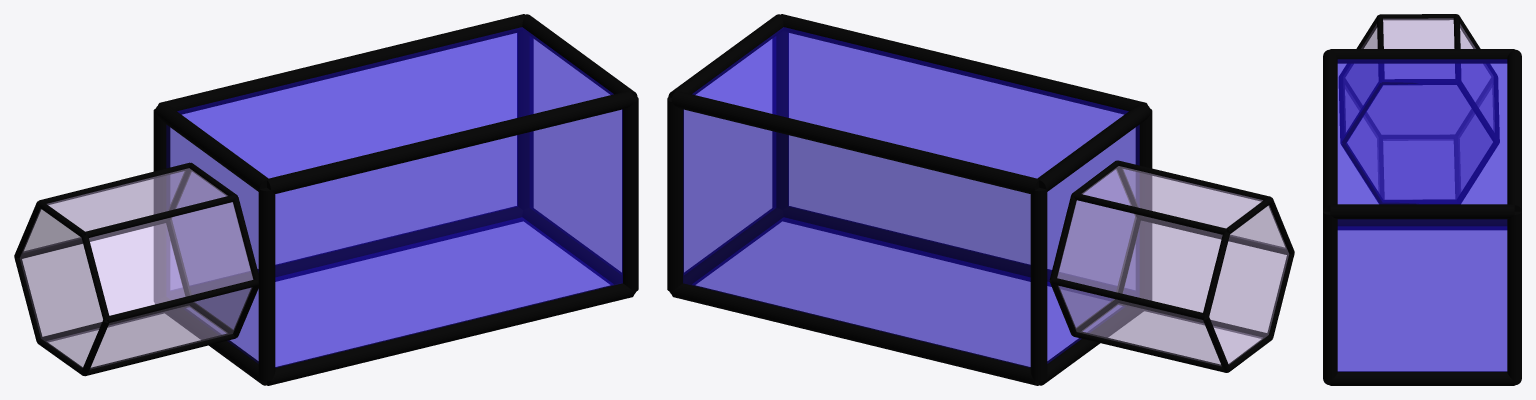
The model's file is hexagonal prism on rectangular prism.fbx.
The picture shows the model from 3 angles, left to right: view 1: azimuth 30°, elevation 25°; view 2: azimuth 150°, elevation 25°; view 3: azimuth 270°, elevation 25°; orthographic projection. The views are drawn at different scales.
Visible parts, largest first — view 1: ReferenceCuboid, ReferenceHexPrism, CuboidEdge.002, CuboidEdge.006, CuboidEdge, CuboidEdge.004, CuboidEdge.010, CuboidEdge.011, CuboidEdge.008, CuboidEdge.009, CuboidEdge.001, CuboidEdge.003 (+12 smaller); view 2: ReferenceCuboid, ReferenceHexPrism, CuboidEdge, CuboidEdge.004, CuboidEdge.002, CuboidEdge.006, CuboidEdge.009, CuboidEdge.008, CuboidEdge.011, CuboidEdge.010, CuboidEdge.001, CuboidEdge.003 (+12 smaller); view 3: ReferenceCuboid, ReferenceHexPrism, CuboidEdge.003, CuboidEdge.007, CuboidEdge.001, CuboidEdge.008, CuboidEdge.011, CuboidEdge, CuboidEdge.002, CuboidEdge.005, HexPrismEdge.001, HexPrismEdge.007 (+16 smaller).
Boxes of the visible parts, x1,y1,x2,y2 form: ReferenceCuboid: (166, 27, 622, 367); ReferenceHexPrism: (20, 168, 252, 369); CuboidEdge.002: (267, 91, 634, 193); CuboidEdge.006: (267, 282, 634, 385); CuboidEdge: (158, 14, 525, 114); CuboidEdge.004: (171, 206, 522, 298); CuboidEdge.010: (258, 187, 275, 381); CuboidEdge.011: (622, 97, 638, 291); CuboidEdge.008: (517, 31, 533, 209); CuboidEdge.009: (153, 109, 170, 302); CuboidEdge.001: (154, 103, 268, 191); CuboidEdge.003: (522, 14, 637, 97); ReferenceCuboid: (683, 27, 1139, 367); ReferenceHexPrism: (1057, 166, 1288, 365); CuboidEdge: (671, 91, 1038, 193); CuboidEdge.004: (671, 282, 1038, 385); CuboidEdge.002: (780, 14, 1147, 114); CuboidEdge.006: (783, 206, 1134, 295); CuboidEdge.009: (1030, 187, 1047, 381); CuboidEdge.008: (667, 97, 683, 291); CuboidEdge.011: (772, 31, 788, 209); CuboidEdge.010: (1135, 109, 1152, 300); CuboidEdge.001: (1037, 103, 1151, 191); CuboidEdge.003: (668, 14, 783, 97); ReferenceCuboid: (1337, 59, 1507, 371); ReferenceHexPrism: (1345, 18, 1493, 199); CuboidEdge.003: (1330, 204, 1514, 219); CuboidEdge.007: (1330, 371, 1514, 385); CuboidEdge.001: (1330, 49, 1514, 63); CuboidEdge.008: (1507, 211, 1521, 381); CuboidEdge.011: (1323, 211, 1337, 381); CuboidEdge: (1507, 49, 1521, 211); CuboidEdge.002: (1323, 49, 1337, 211); CuboidEdge.005: (1337, 219, 1507, 229); HexPrismEdge.001: (1380, 14, 1456, 20); HexPrismEdge.007: (1381, 79, 1457, 84).
Size of the model in its own units: 291 by 108 by 108.
